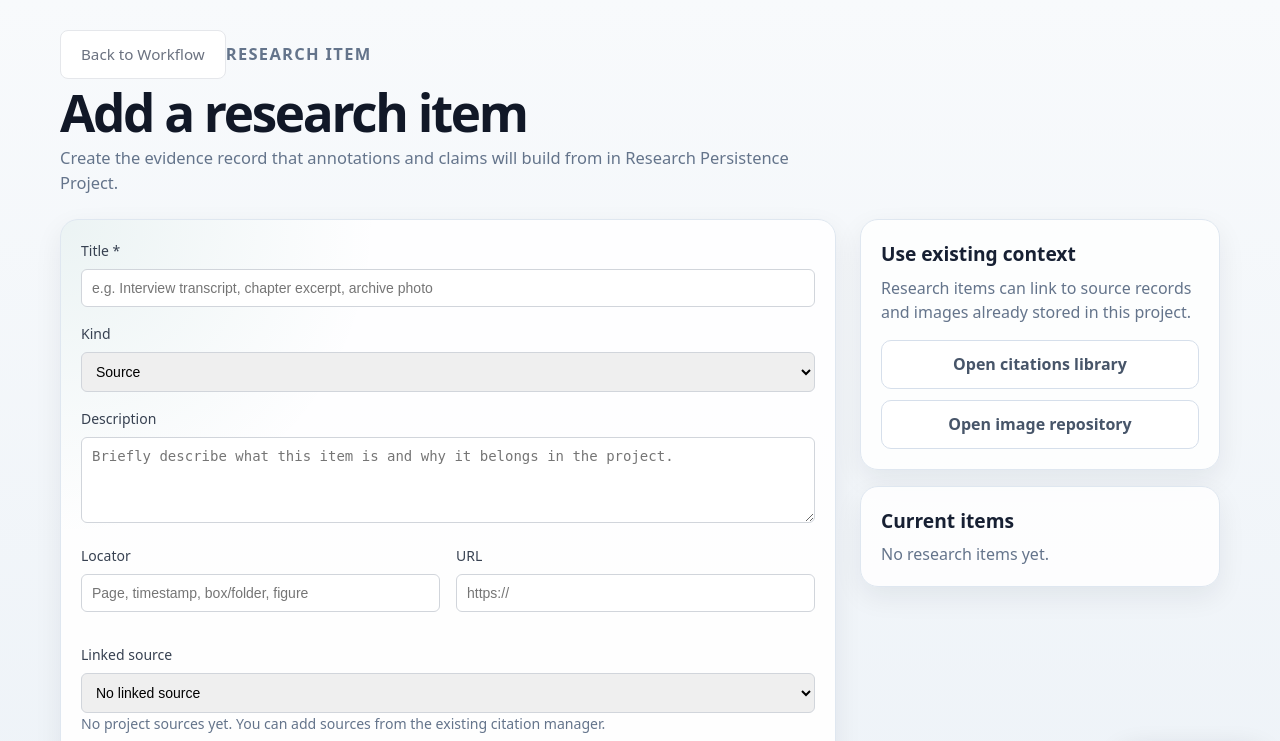
creates and persists a research item locally
In the field labelled "Title *": {"x": 448, "y": 288} top-left (81, 269), bottom-right (815, 307), type "Archive interview transcript"
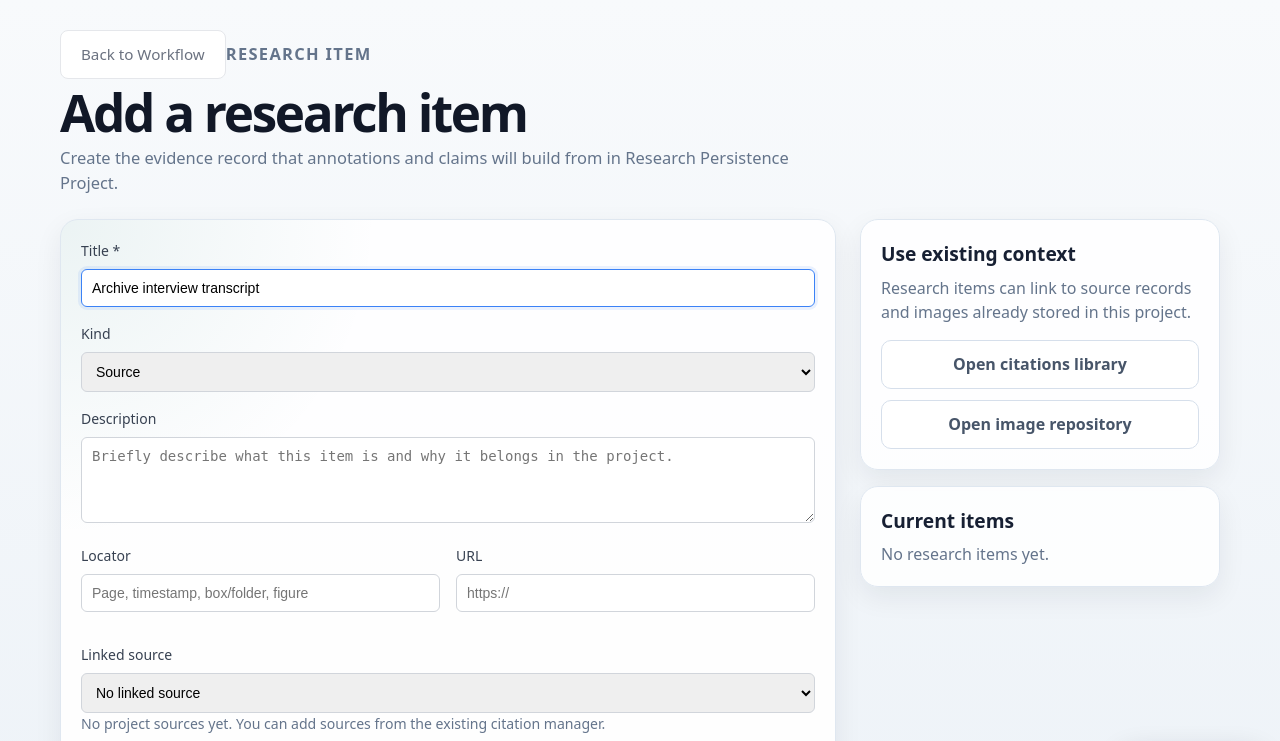
Select "Source" in the dropdown labelled "Kind": {"x": 448, "y": 372} top-left (81, 352), bottom-right (815, 392)
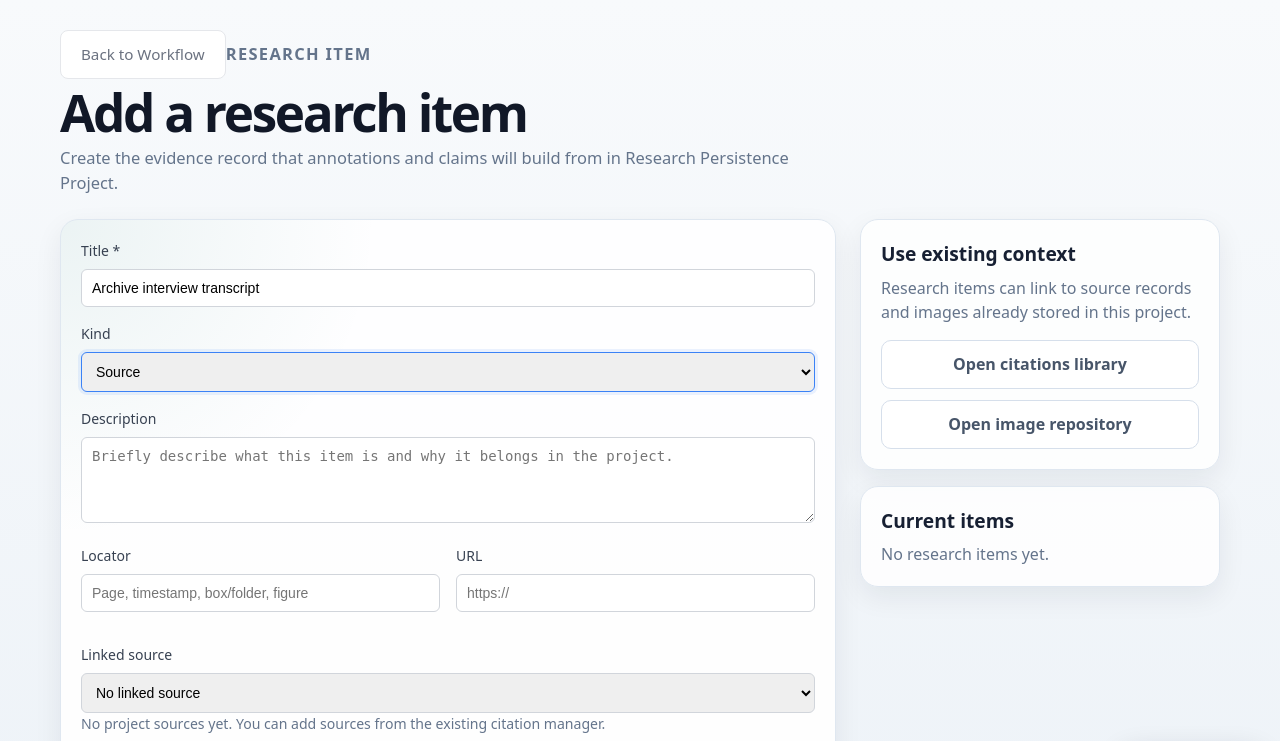
In the text box labelled "Description": {"x": 448, "y": 480} top-left (81, 437), bottom-right (815, 523), type "A transcript used as primary evidence."
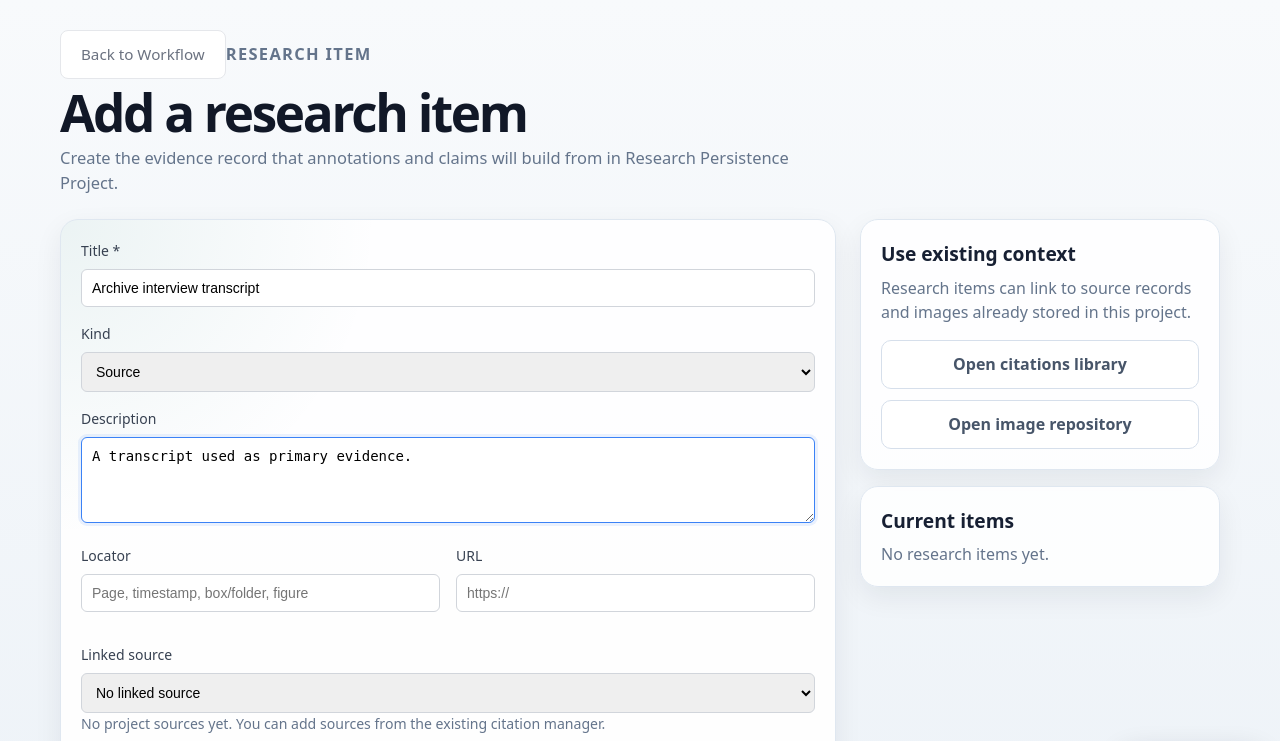
In the field labelled "Locator": {"x": 260, "y": 593} top-left (81, 574), bottom-right (440, 612), type "Box 2, folder 4"
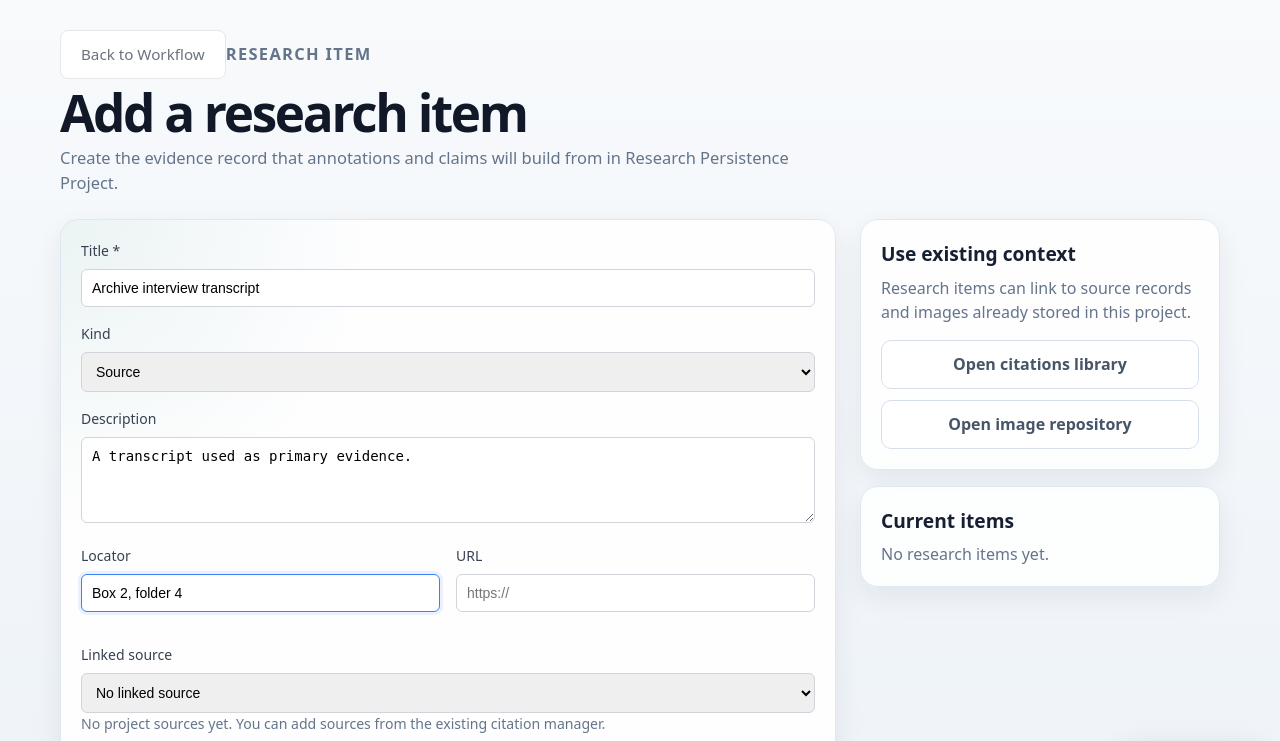
In the field labelled "URL": {"x": 636, "y": 593} top-left (456, 574), bottom-right (815, 612), type "https://example.com/archive"
(page scrolled)
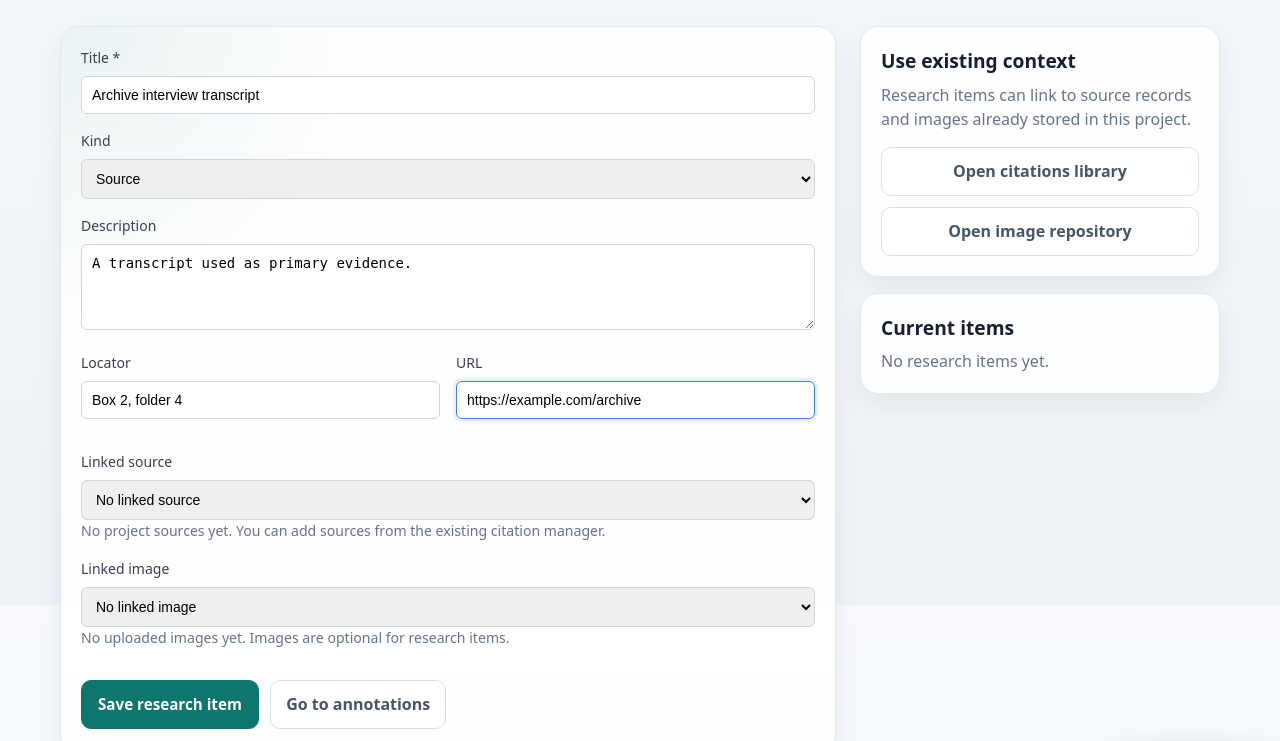
Click the button "Save research item": {"x": 170, "y": 704} top-left (81, 680), bottom-right (259, 729)
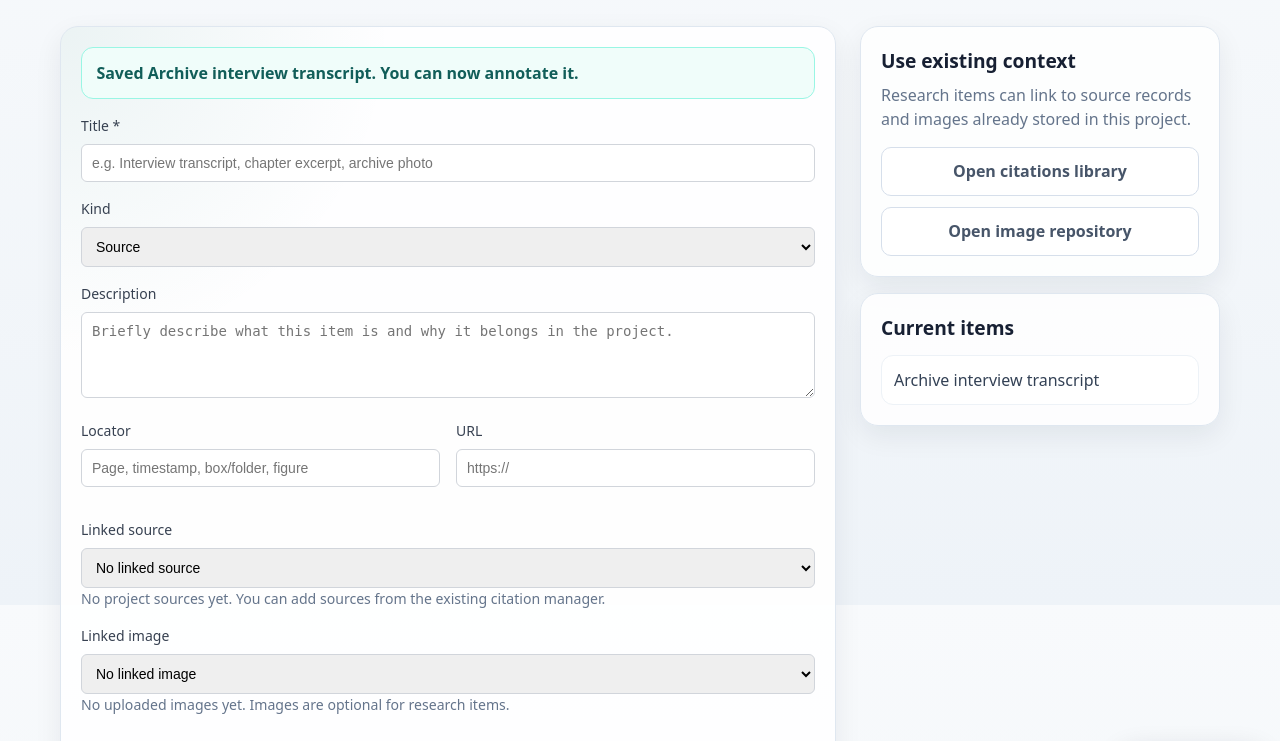
Expected: the message shows "Saved Archive interview transcript", top-left (81, 47), bottom-right (815, 99)
